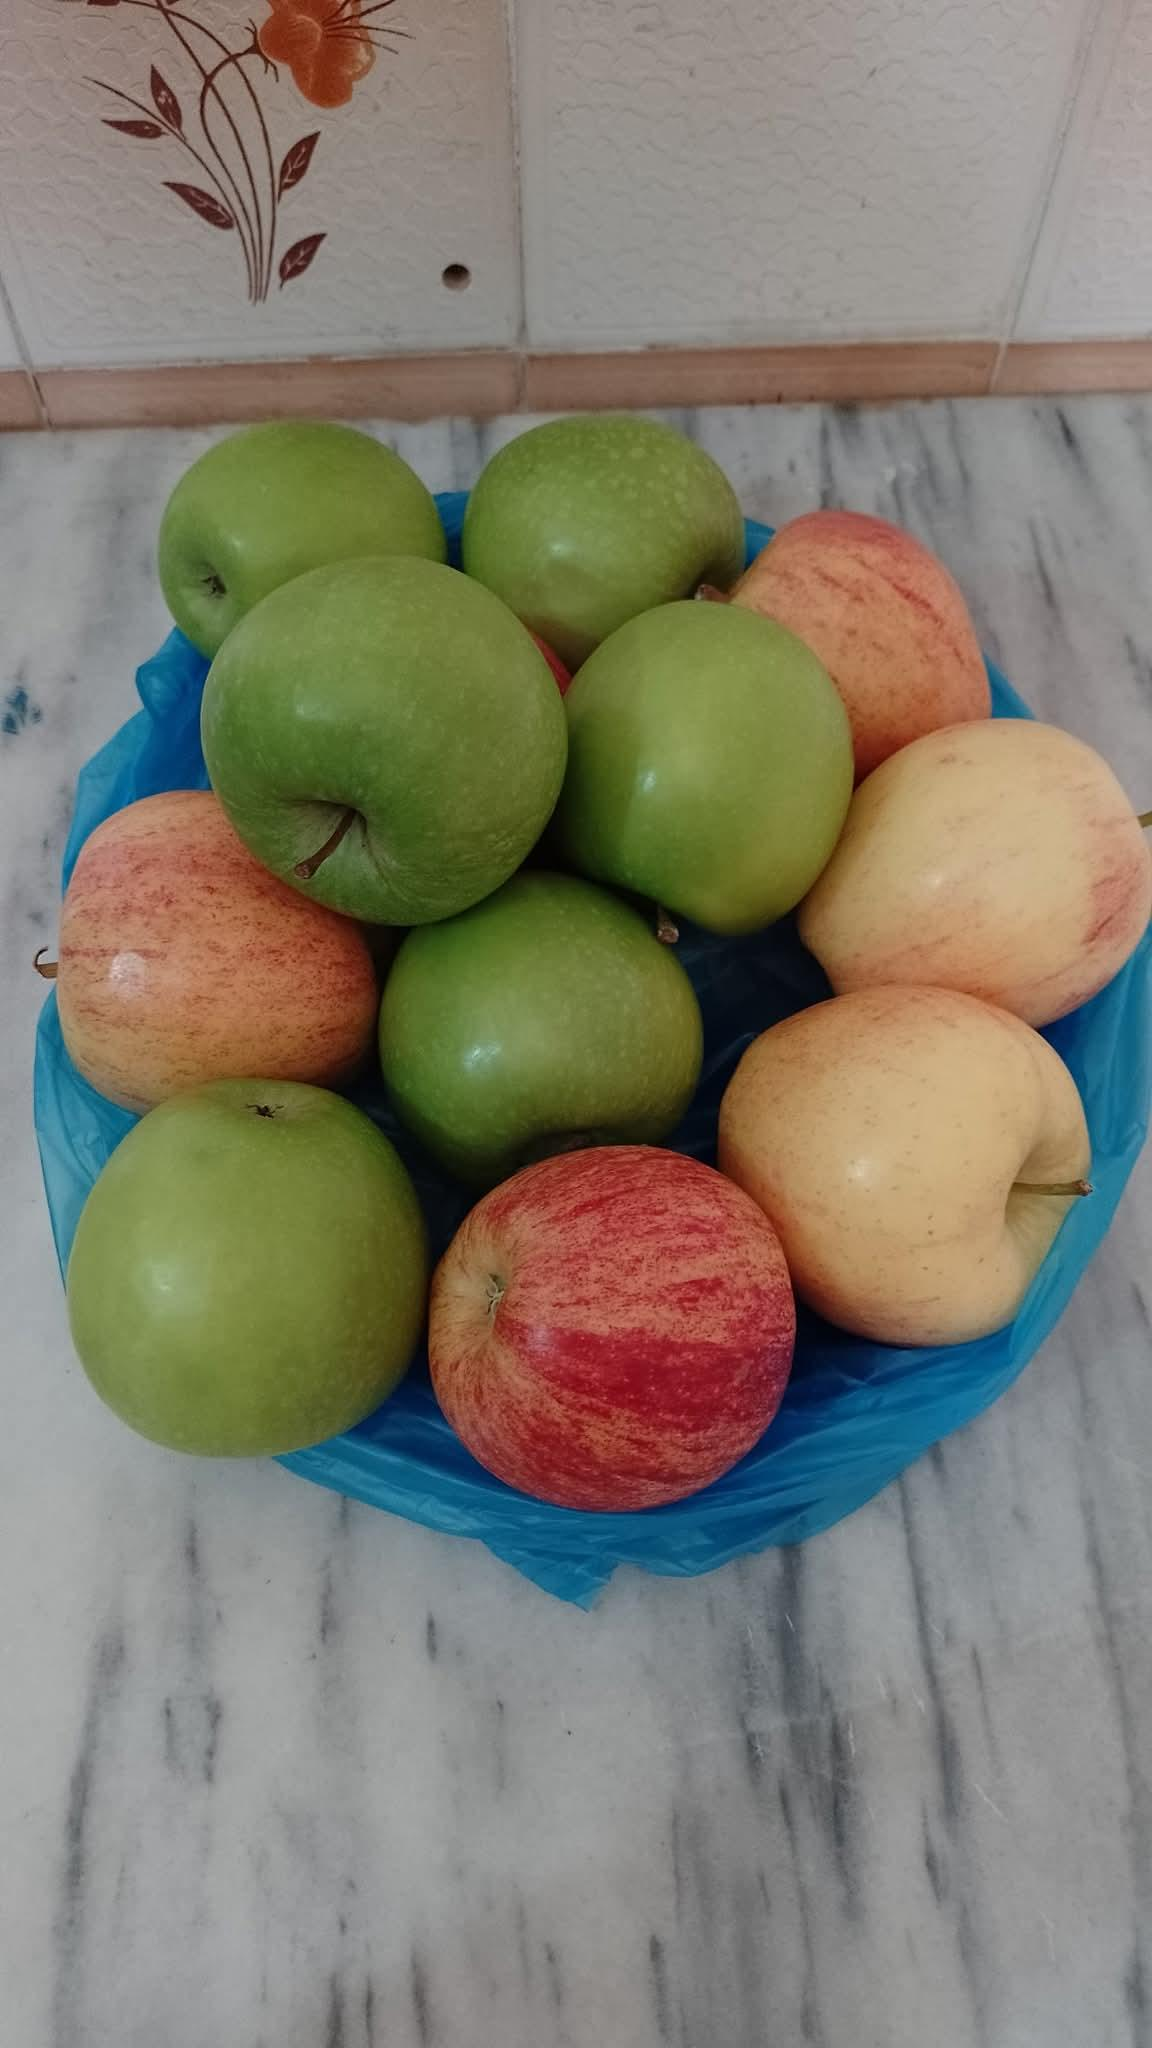non-mango: (415, 1111, 809, 1536), (55, 1056, 435, 1476), (736, 966, 1108, 1359), (196, 557, 558, 930), (565, 592, 868, 956)
